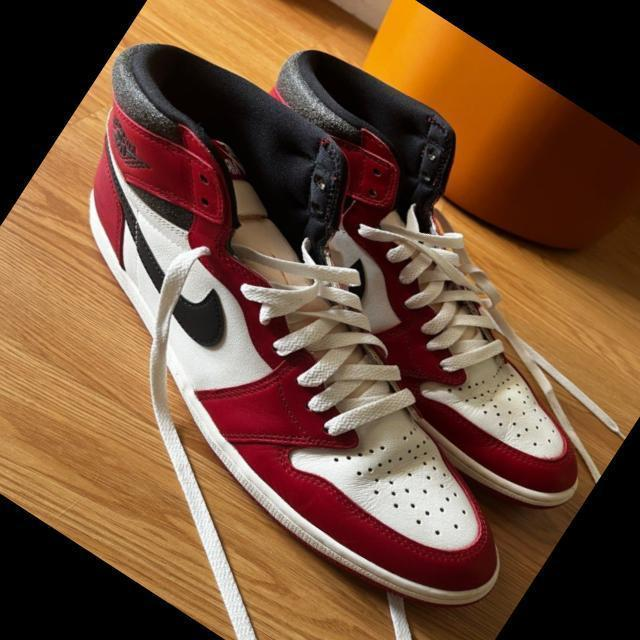nike original jordan 1: (0, 12, 640, 640), (129, 13, 640, 533)
